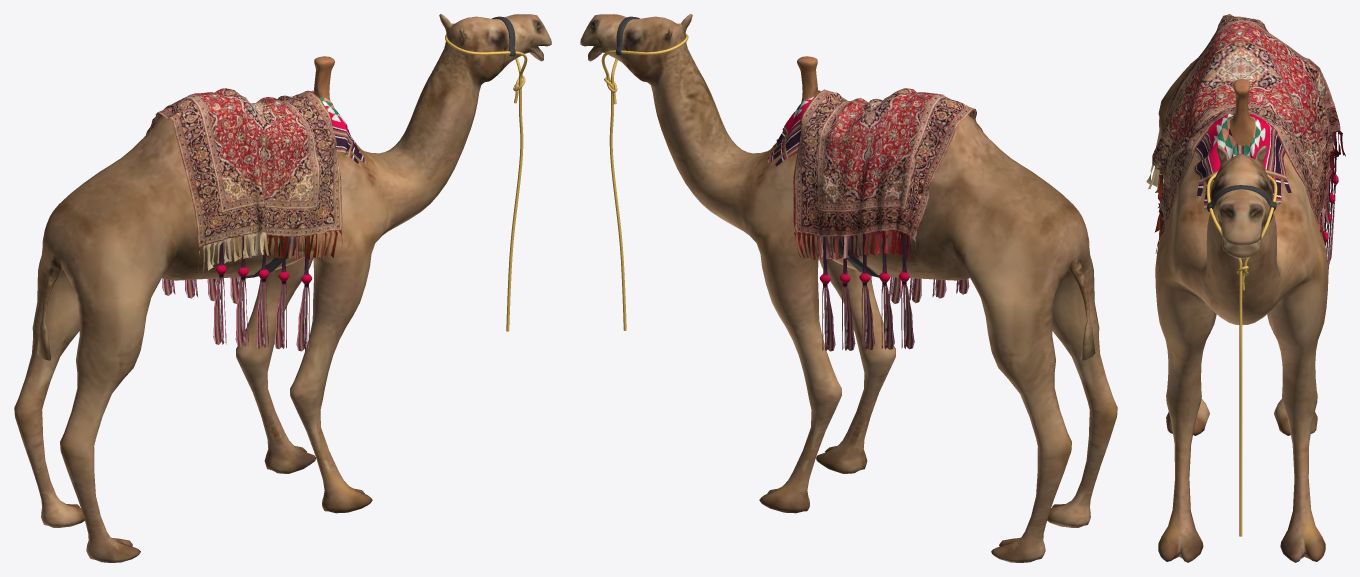
The model's file is camel.glb.
3 views of the same model, side by side, from view 1: azimuth 30°, elevation 25°; view 2: azimuth 150°, elevation 25°; view 3: azimuth 270°, elevation 25° (orthographic). The views are drawn at different scales.
Visible parts, largest first — view 1: c_0; view 2: c_0; view 3: c_0.
Part boxes in pixels (x1,y1,x2,y2): c_0: (14,14,551,562); c_0: (580,14,1117,562); c_0: (1146,14,1345,562).
Size of the model in its own units: 2.86 by 2.31 by 0.8663.
Materials: 1 (1 with a texture image).
